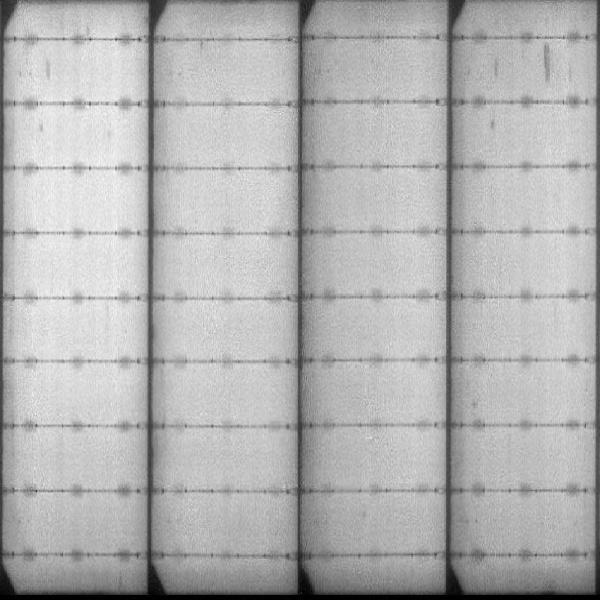scratch: (537, 45, 558, 83)
